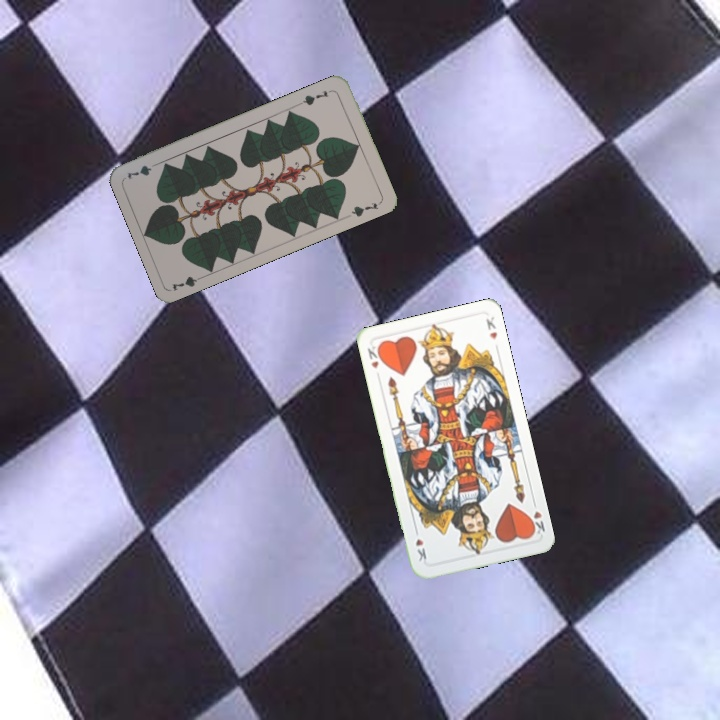G7: (168, 271, 208, 293), (297, 86, 331, 108)
HK: (525, 496, 548, 537), (363, 340, 385, 371)
